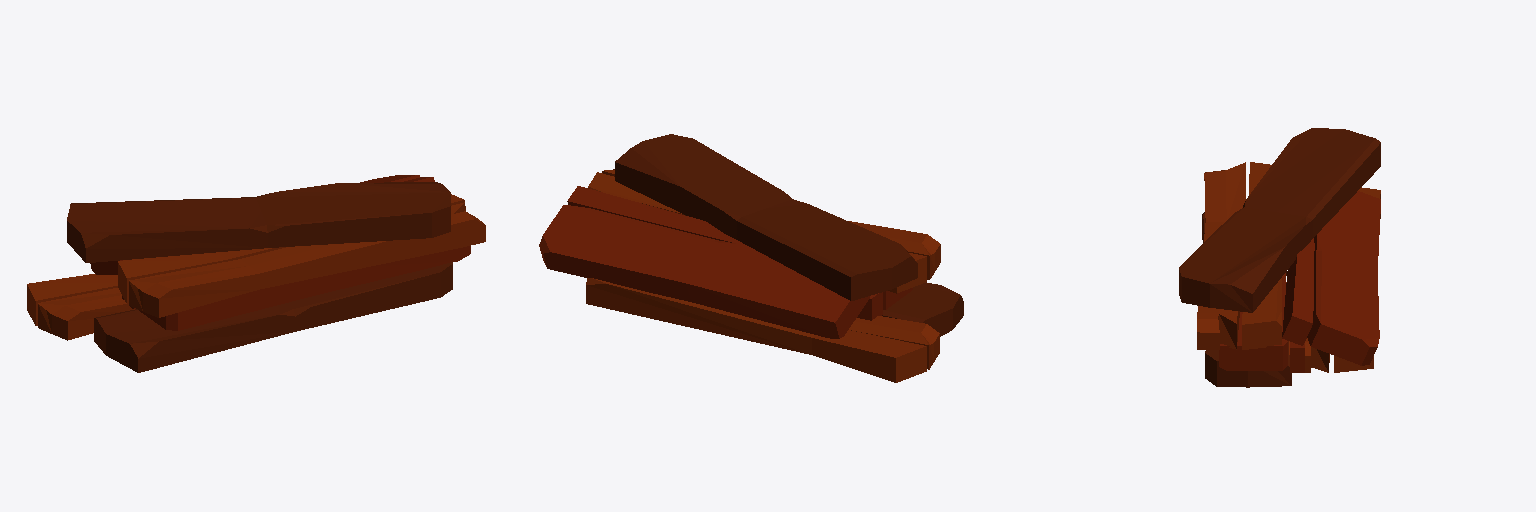
The model's file is wood_plank_pile.obj.
3 views of the same model, side by side, from view 1: azimuth 30°, elevation 25°; view 2: azimuth 150°, elevation 25°; view 3: azimuth 270°, elevation 25° (orthographic).
Visible parts, largest first — view 1: Cube.022; view 2: Cube.022; view 3: Cube.022.
Boxes of the visible parts, <box> form: Cube.022: <box>27,175,485,372</box>; Cube.022: <box>539,134,963,382</box>; Cube.022: <box>1179,128,1380,387</box>.
Size of the model in its own units: 3.55 by 0.8996 by 1.64.